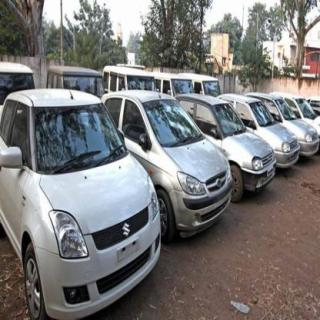Normal_vehicle: (0, 88, 160, 318)
